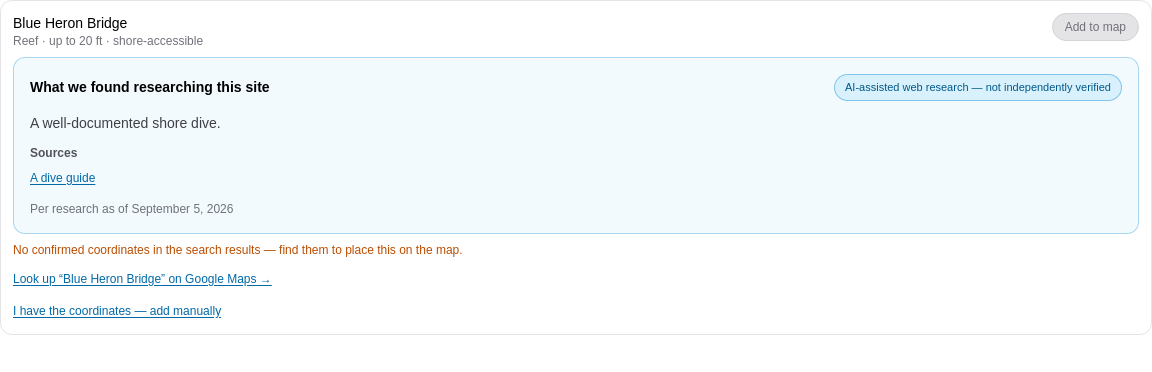
it: SiteDiscoveryCandidates — no-coordinates candidate › reveals lat/long inputs and keeps the add button disabled until they are valid
Click the button "I have the coordinates — add manually" at {"x": 117, "y": 310}, box [13,302,221,318]
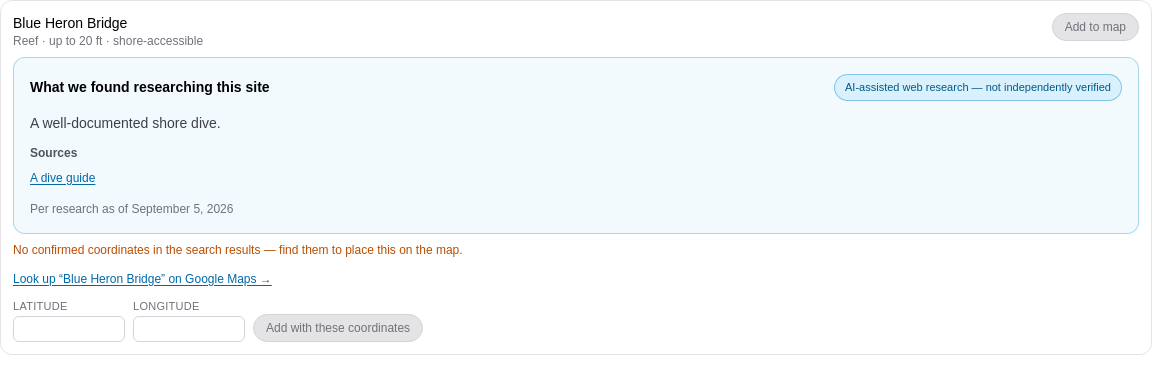
Expected: the button "Add with these coordinates" is disabled, [253,314,423,342]
Type "999" into the field labelled "Latitude" at {"x": 69, "y": 329}, box [13,316,125,342]
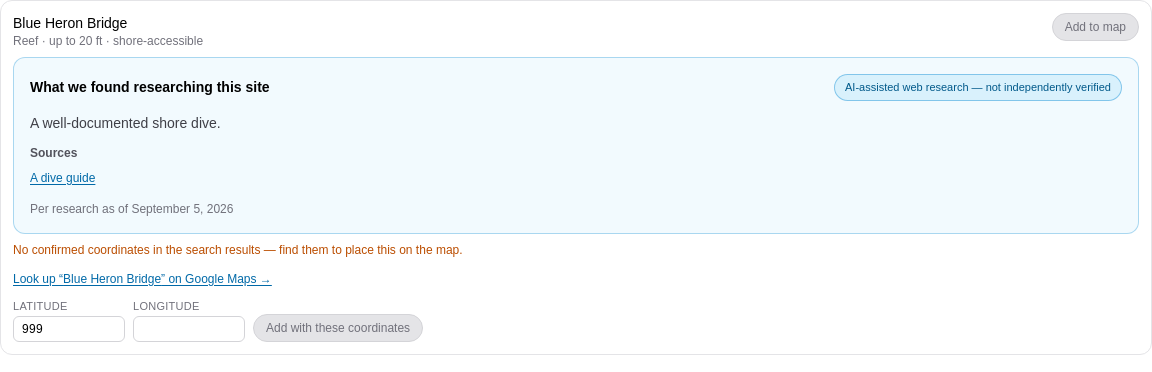
Type "-80.04" into the field labelled "Longitude" at {"x": 189, "y": 329}, box [133,316,245,342]
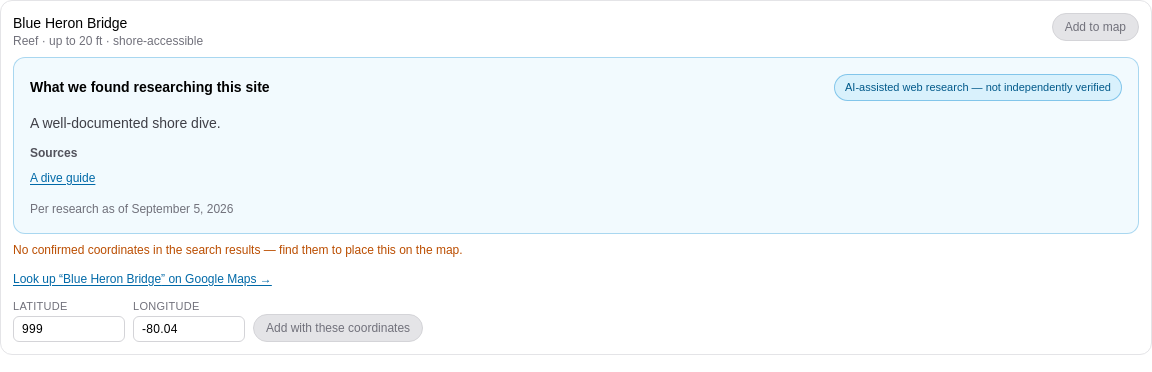
Expected: the button "Add with these coordinates" is disabled, [253,314,423,342]
Replace the text in the field labelled "Latitude" with "26.78" at {"x": 69, "y": 329}, box [13,316,125,342]
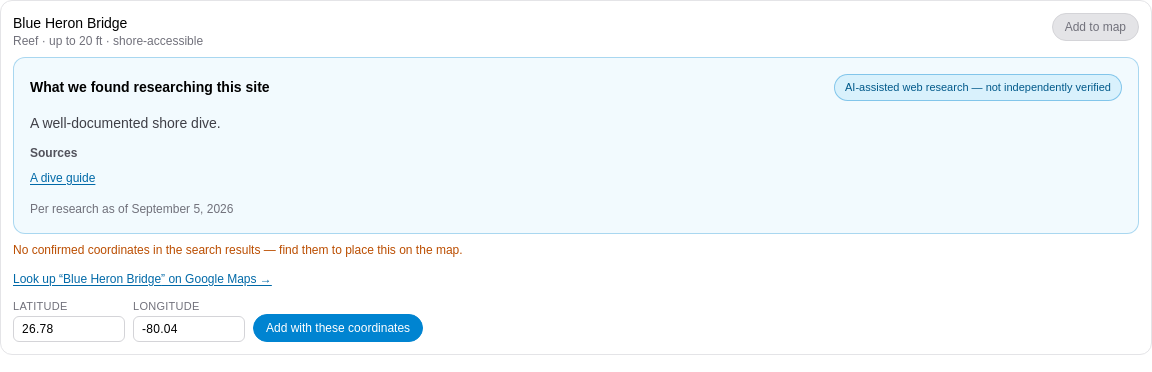
Expected: the button "Add with these coordinates" is enabled, [253,314,423,342]
